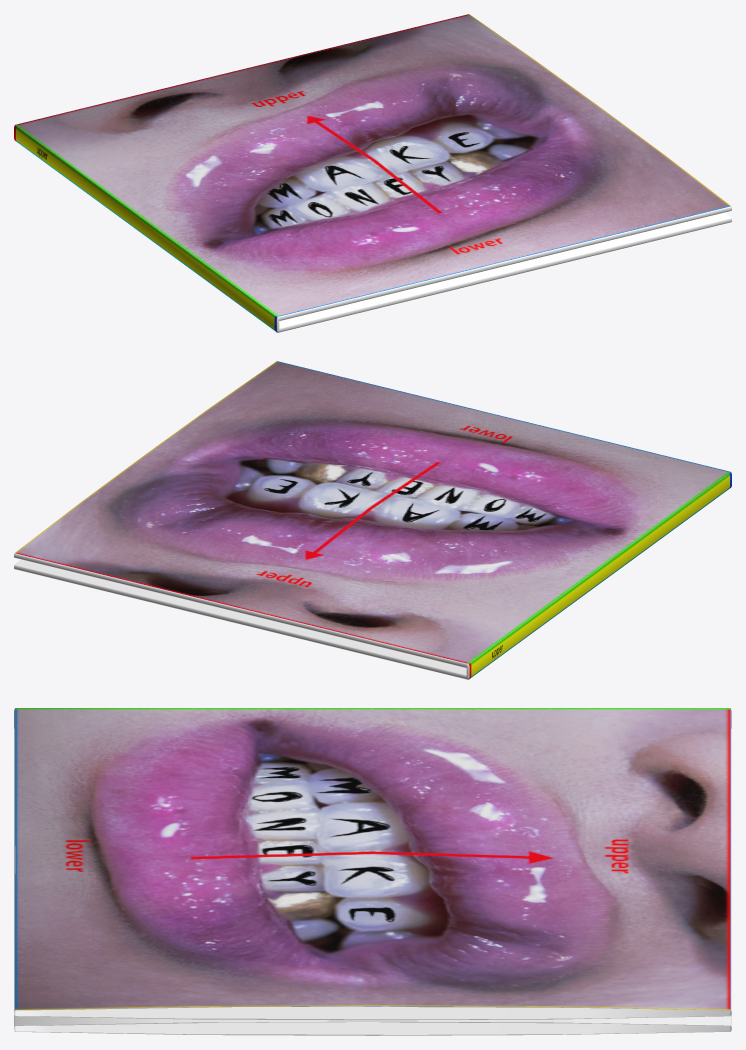
Rendered from sleeve_7_gatefold_AxisMove_group.dae.
3 renders of one model, top to bottom at view 1: azimuth 30°, elevation 25°; view 2: azimuth 150°, elevation 25°; view 3: azimuth 270°, elevation 25°, orthographic. The views are drawn at different scales.
Parts seen in each view (by area): view 1: Front, Back, Spine; view 2: Front, Back, Spine; view 3: Front, Back.
Boxes of the visible parts, <box> form: Front: <box>15,14,731,320</box>; Back: <box>278,212,731,332</box>; Spine: <box>14,125,279,332</box>; Front: <box>14,361,730,667</box>; Back: <box>14,559,467,679</box>; Spine: <box>466,472,731,679</box>; Front: <box>14,708,731,1020</box>; Back: <box>14,1015,731,1035</box>.
Size of the model in its own units: 17.97 by 0.9986 by 18.02.
Materials: 3 (3 with a texture image).
